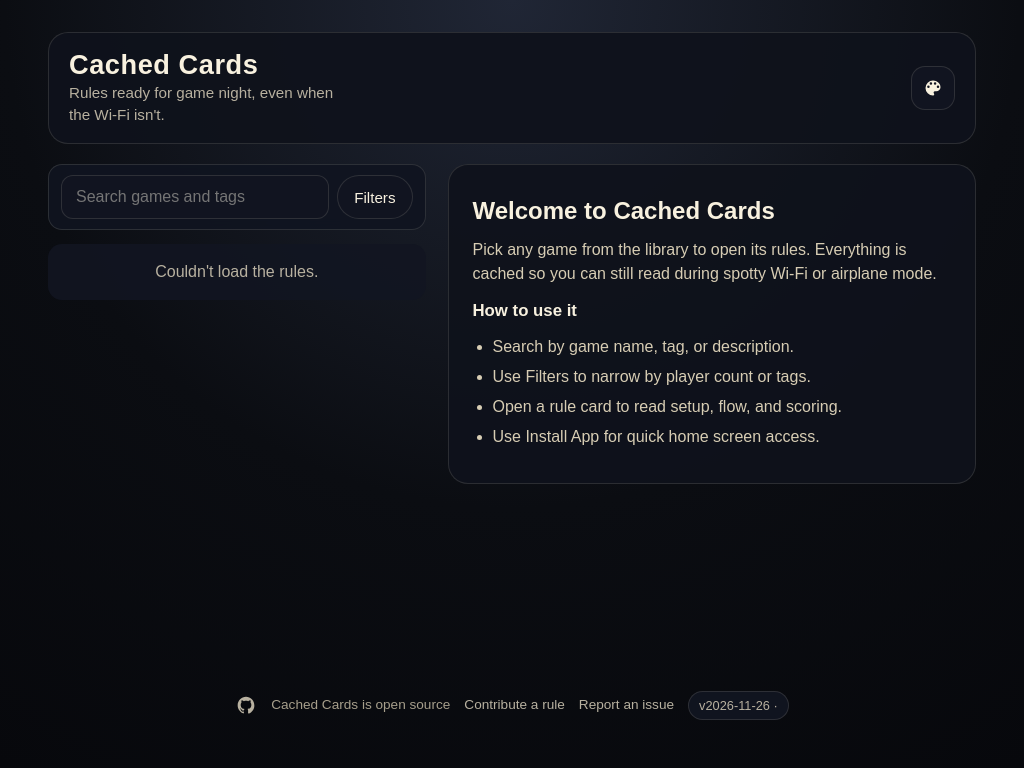
Test: theme picker › closes on Escape and hands focus back to the button
Step 1. Click the button named "Theme:" → point(933, 88), box [911,66,955,110]
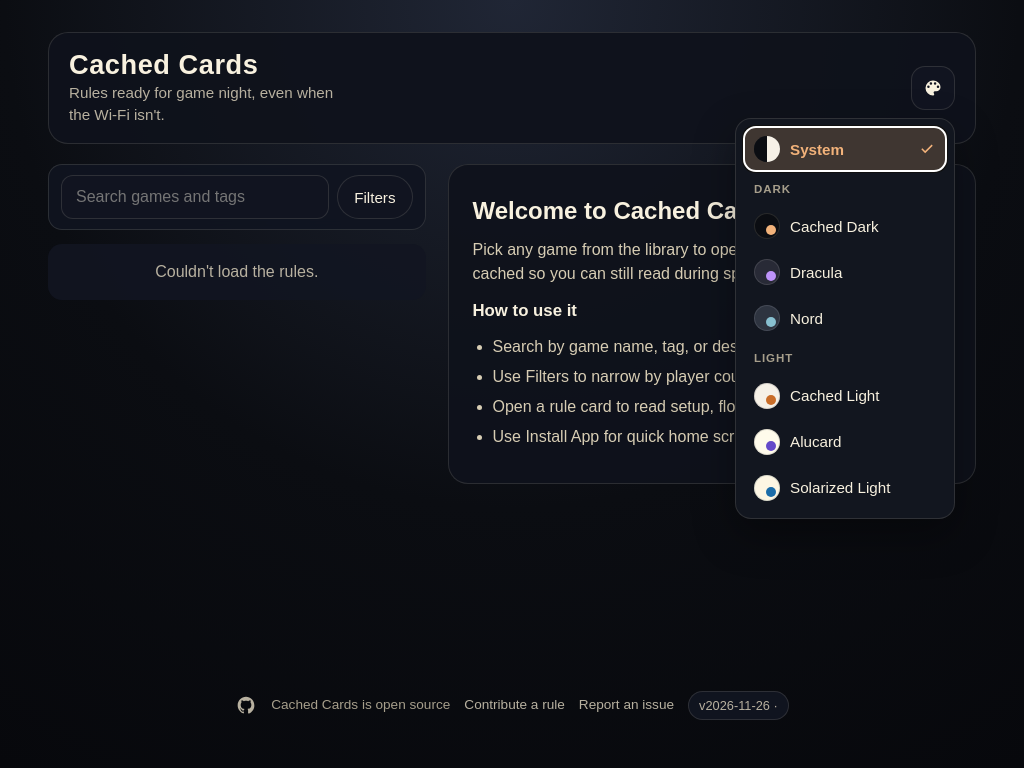
Step 2. Press Escape
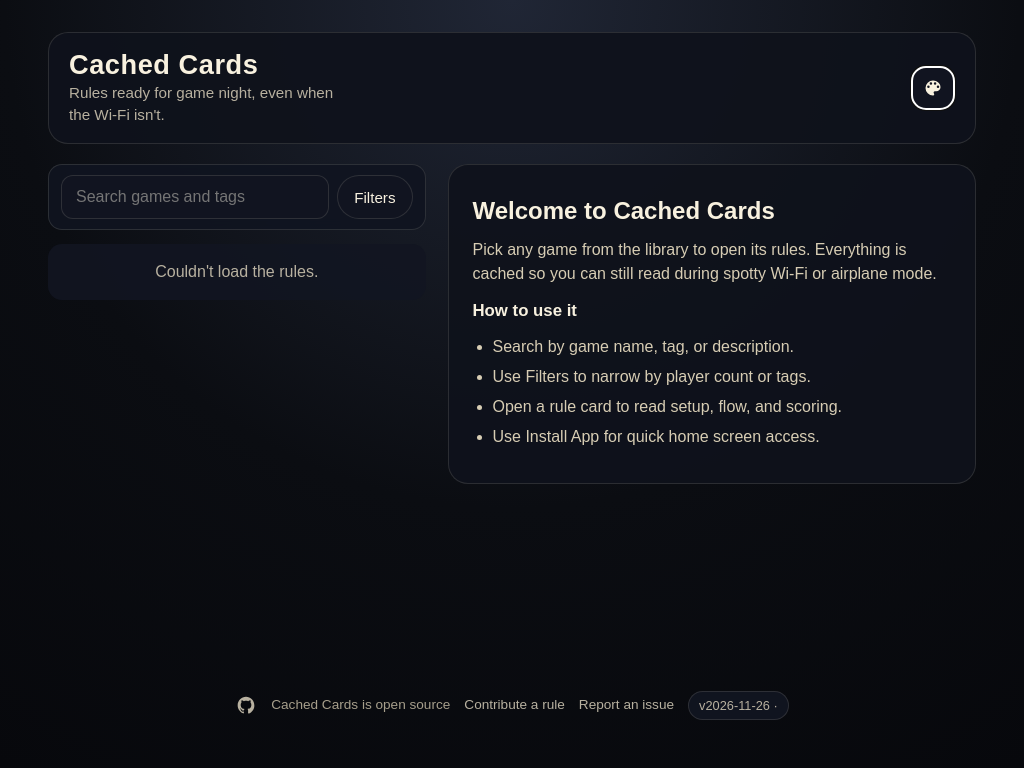
Now the menu "Theme" is gone
